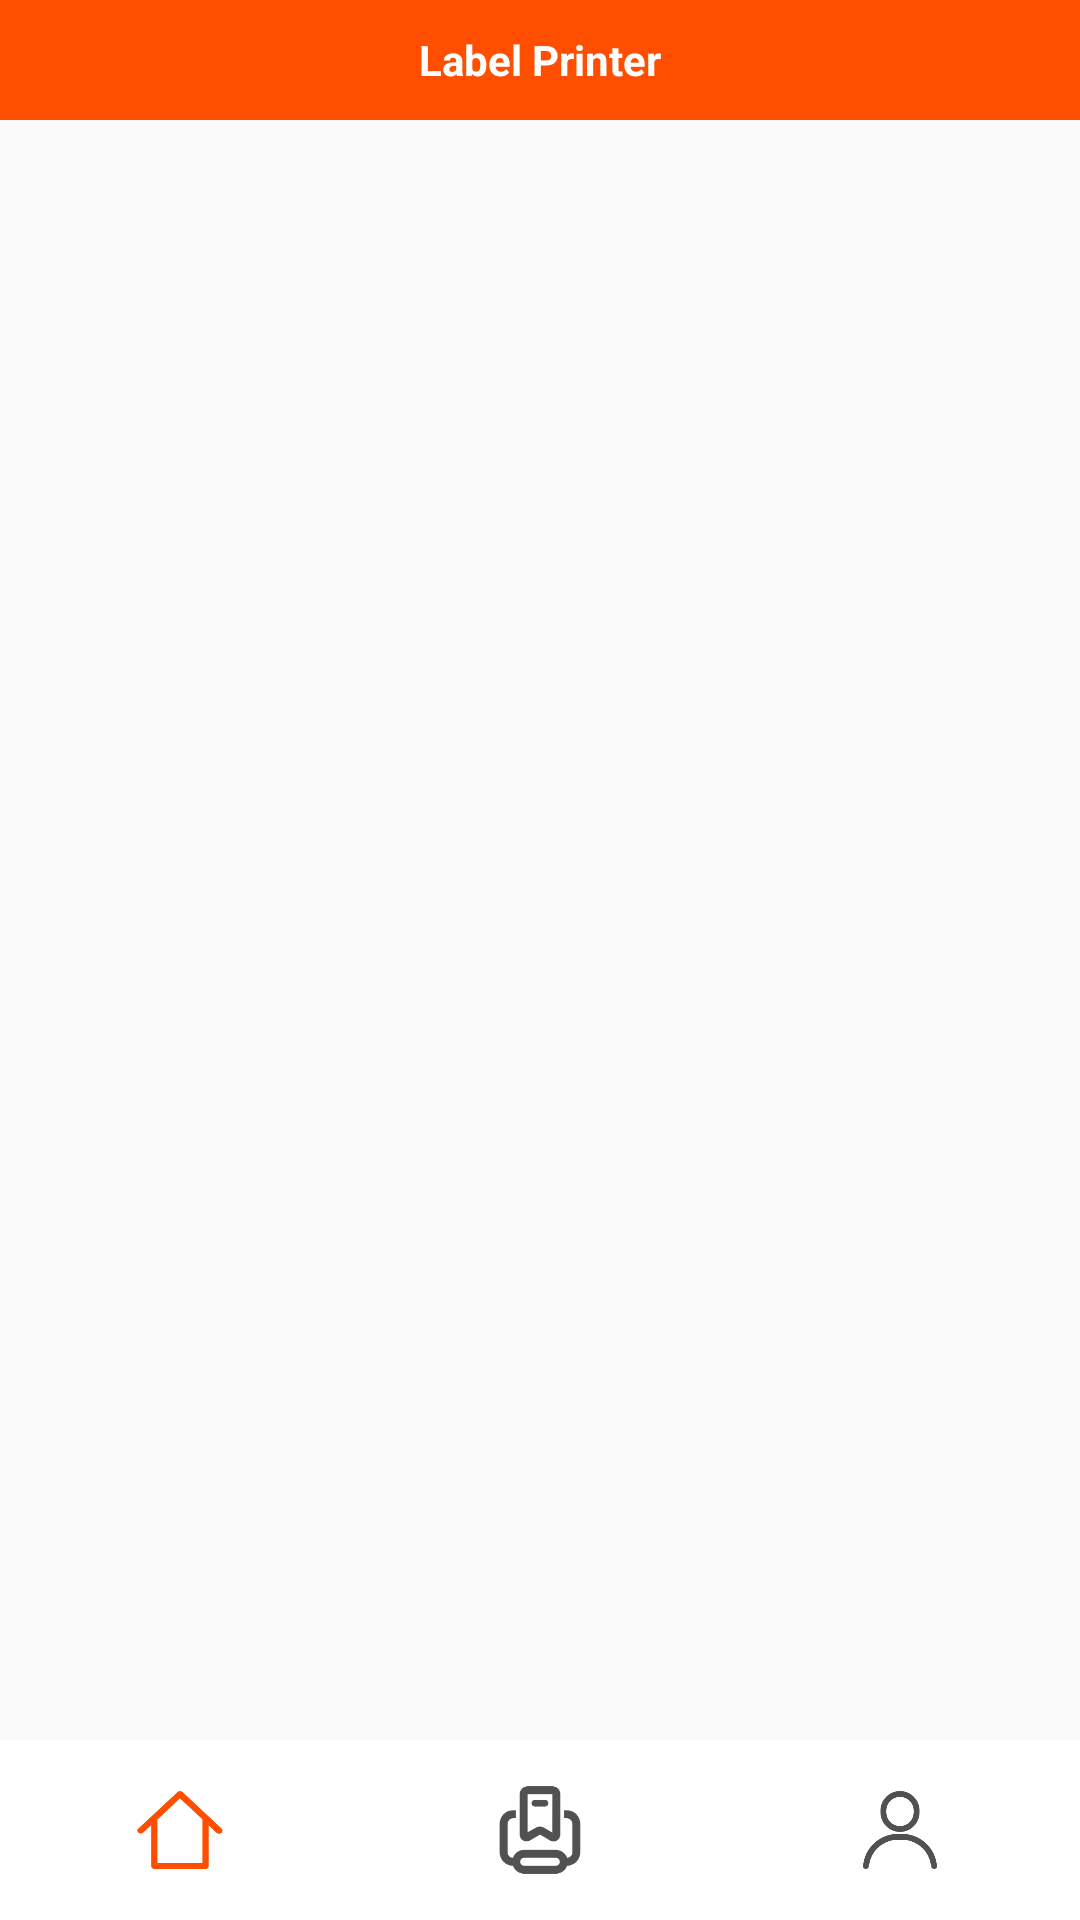

Screen size 1080 × 1920. Icon name, then its center in pixels as point (x, y):
home: point (180, 1830)
mine: point (900, 1830)
template: point (540, 1830)
